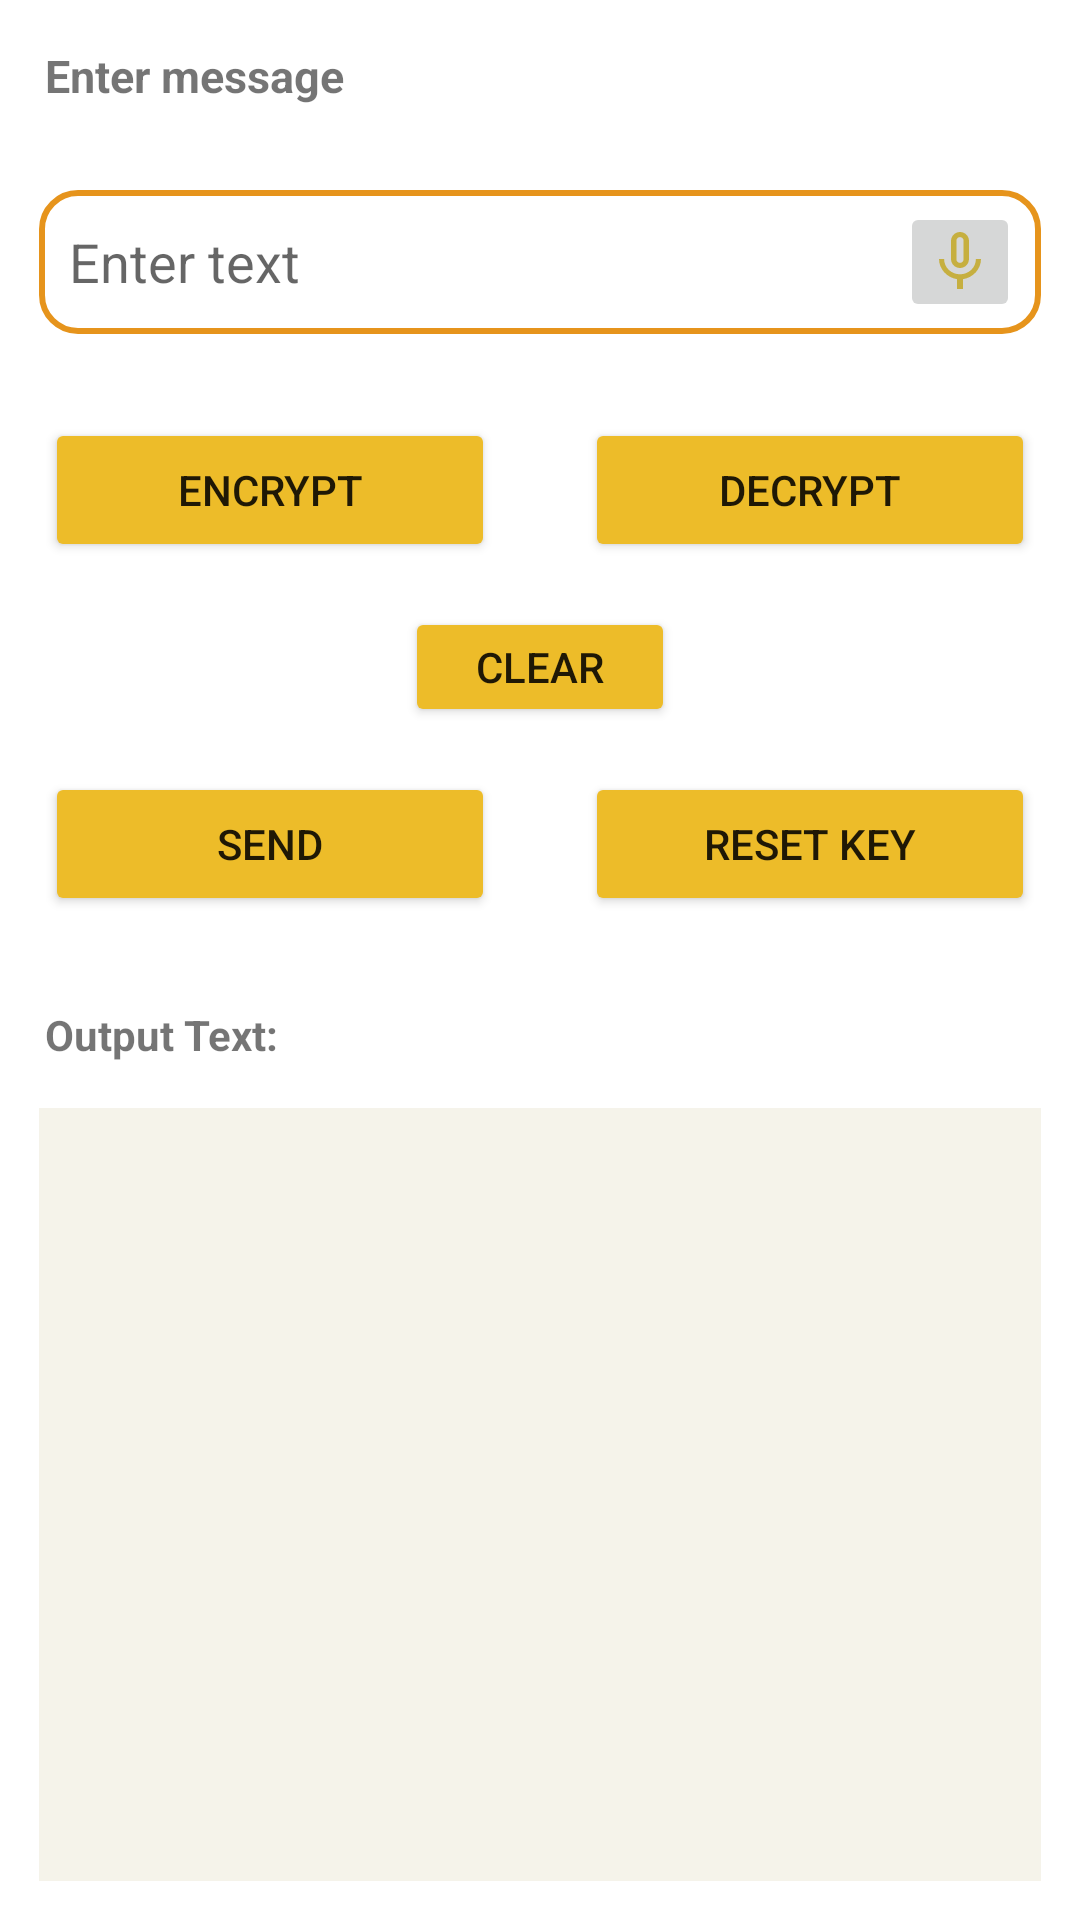

Where to tap for icons on this 1080w x 1920h app screen, as point (x, y):
mic none: point (960, 262)
